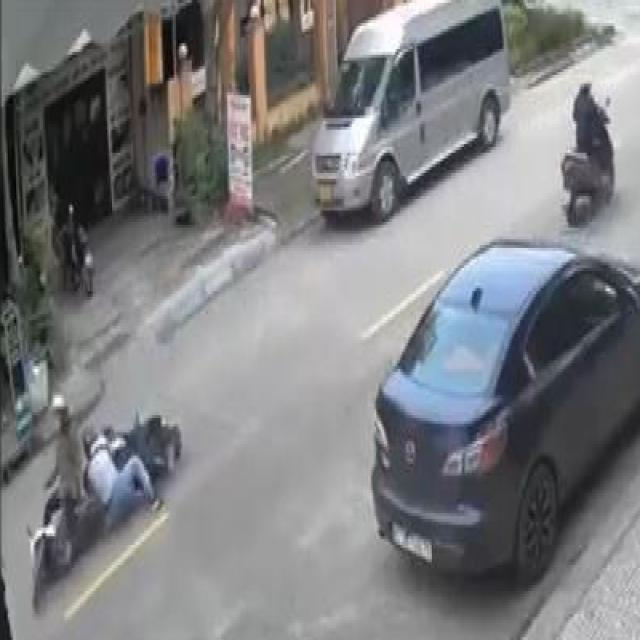accident: (19, 376, 185, 616)
